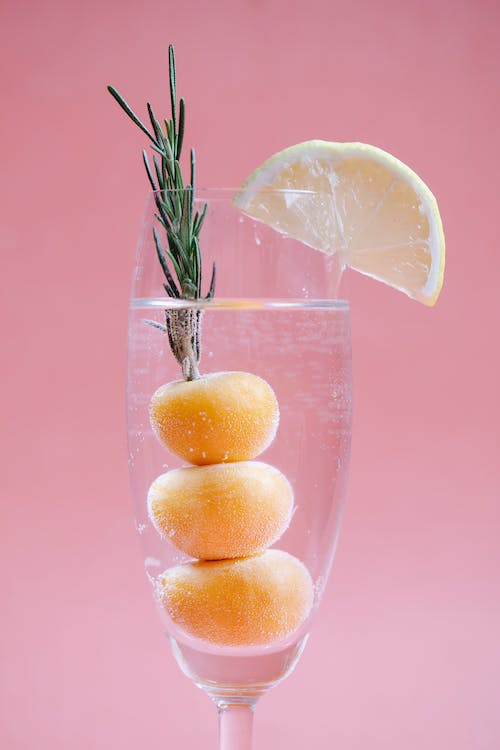alcohol: (125, 189, 354, 750)
